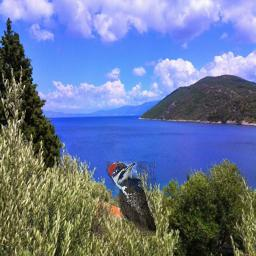Woodpecker: (106, 161, 156, 236)
